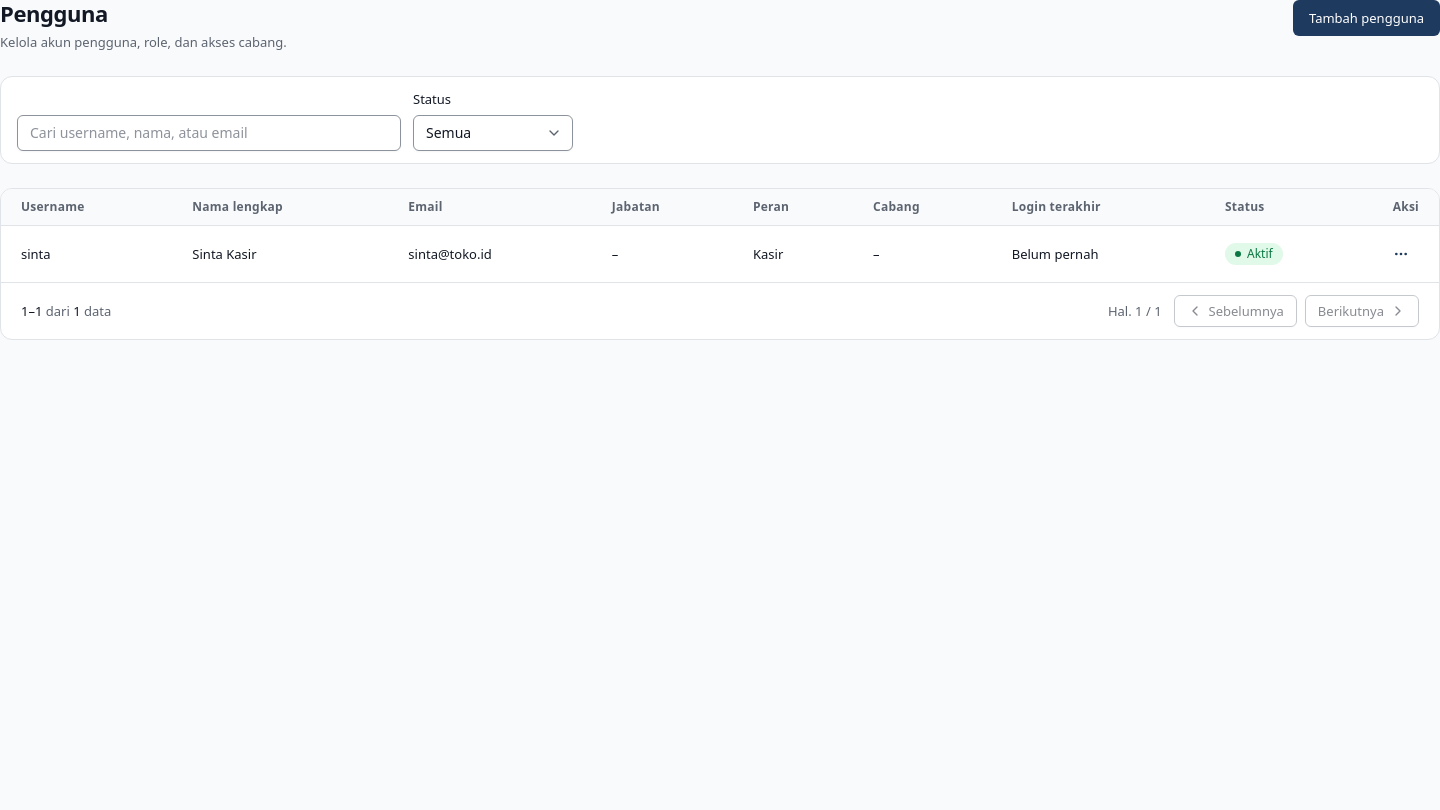
halaman pengguna — ganti kata sandi & status › kata sandi terlalu pendek ditolak di klien
expect the text "sinta" is shown: met, box [21,244,51,262]
Click the button named "Aksi untuk" at (1401,254), box [1383,236,1419,272]
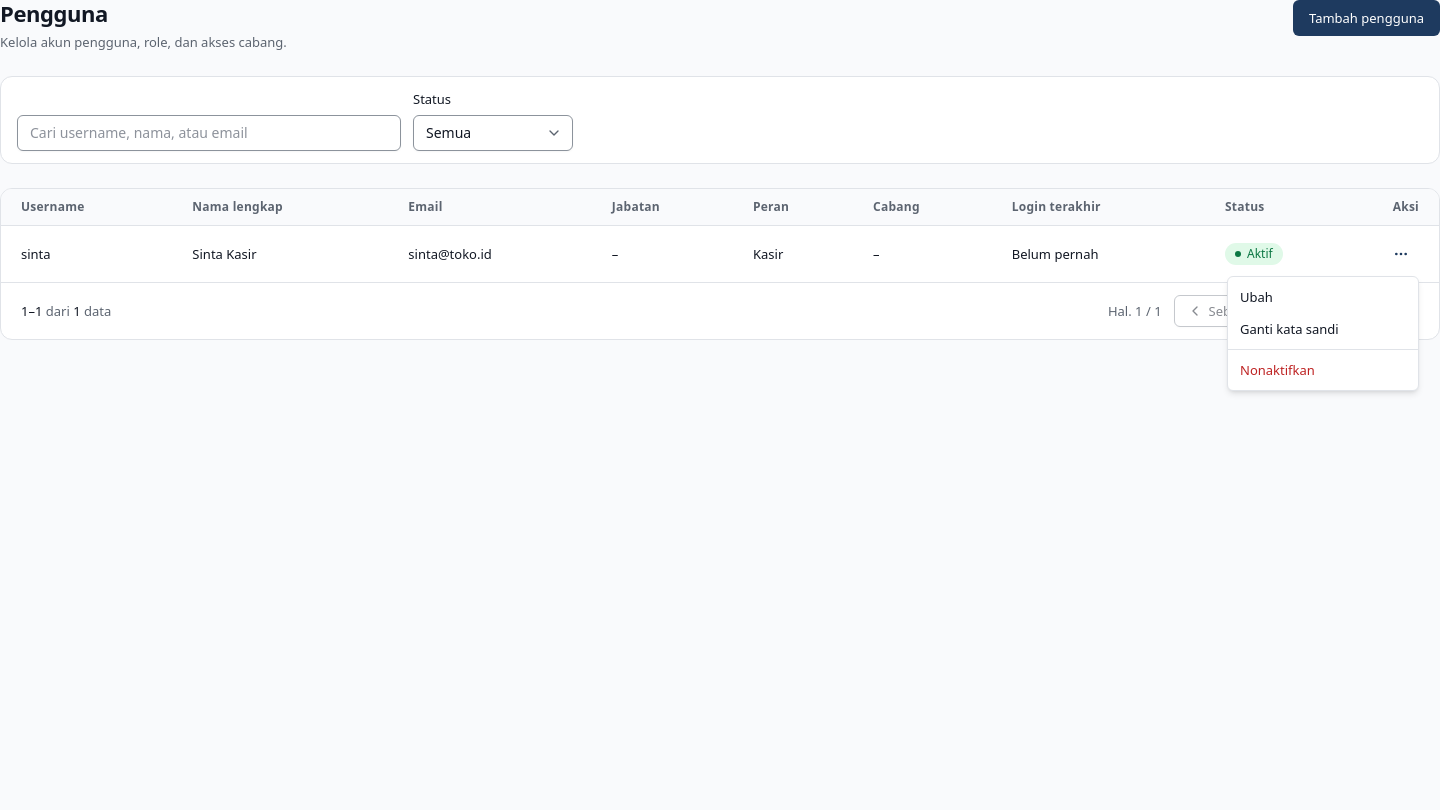
Click the menu item "Ganti kata sandi" at (1289,329), box [1240,320,1339,338]
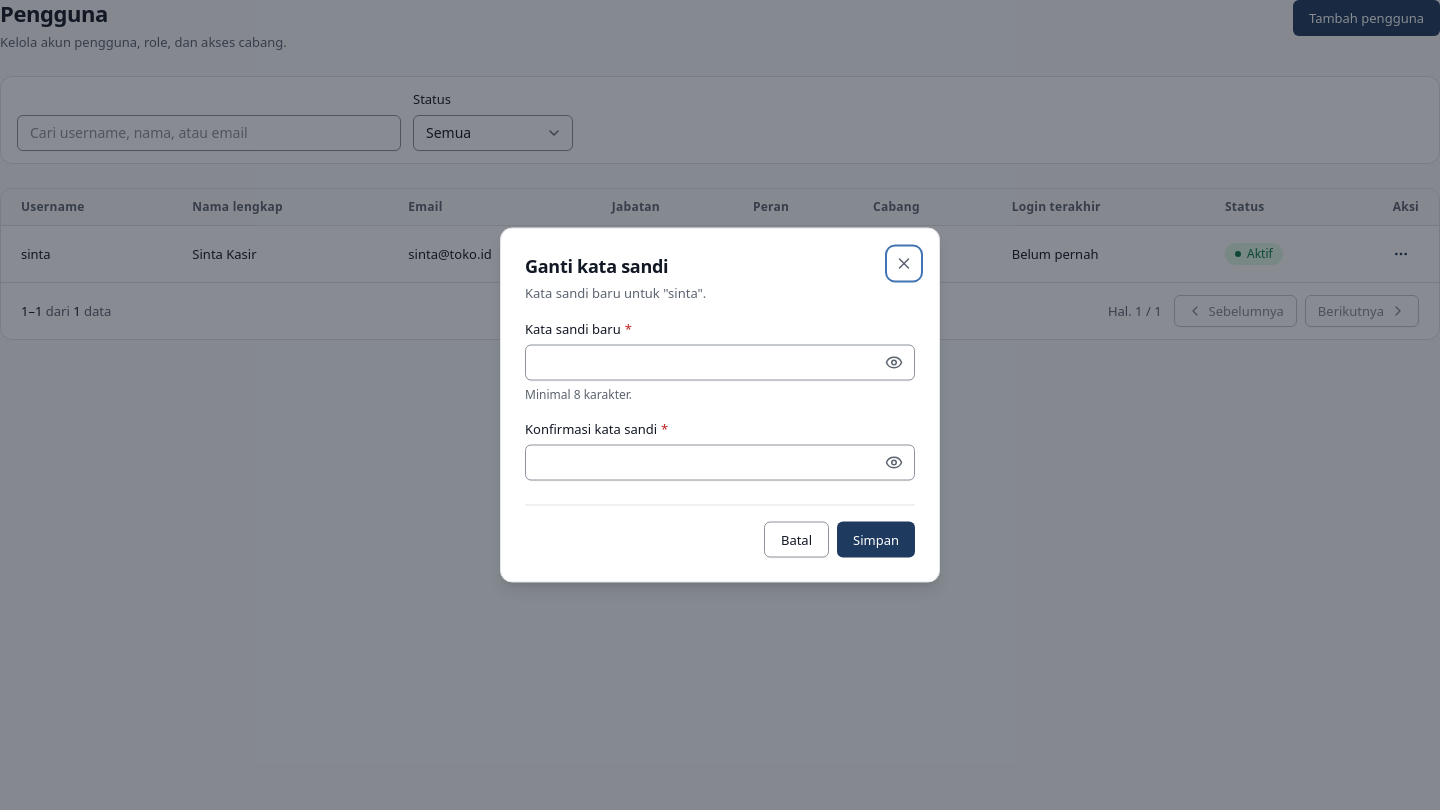
Type "pendek" into the password field labelled "Kata sandi baru *" at (720,362), box [525,344,915,380]
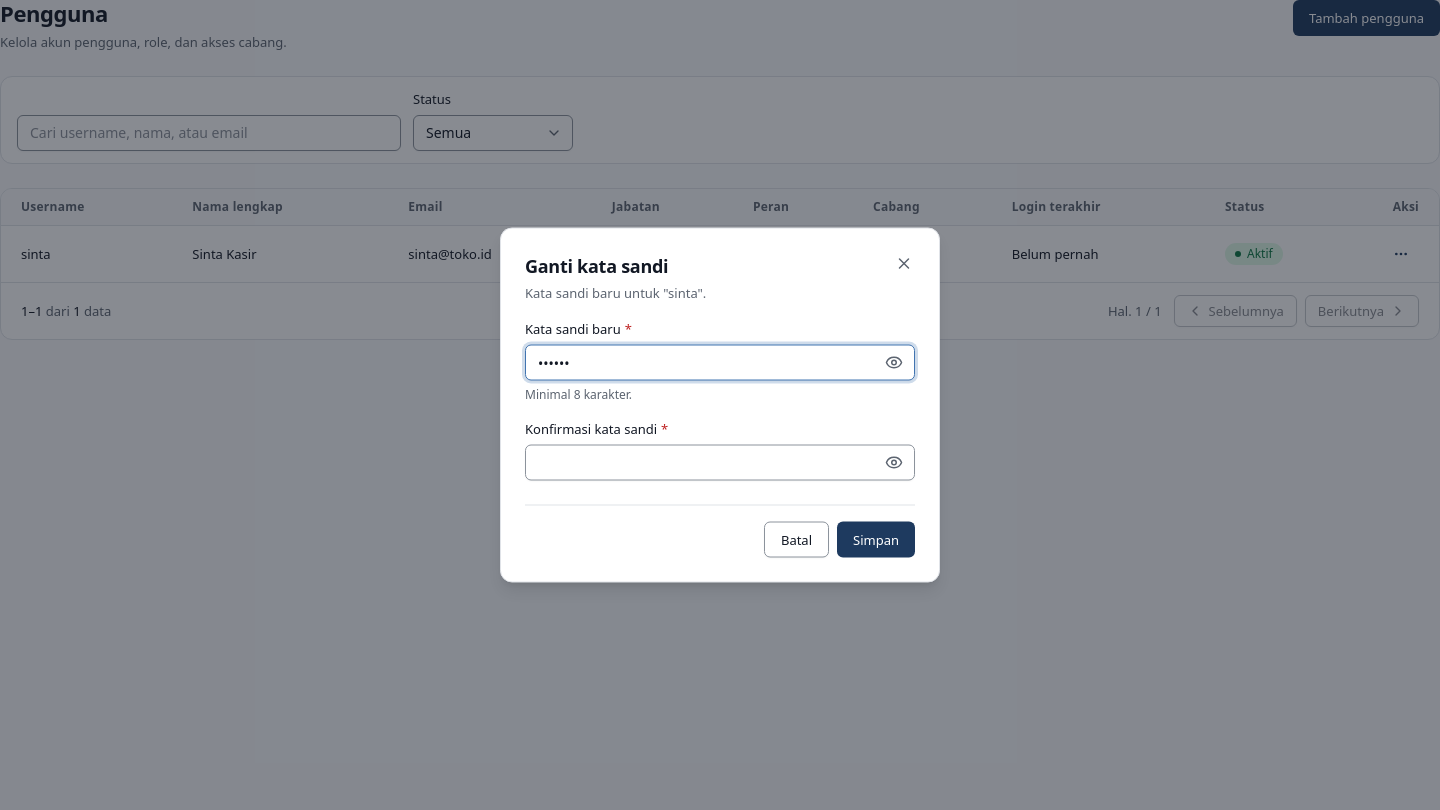
Type "pendek" into the password field labelled "Konfirmasi kata sandi *" at (720,462), box [525,444,915,480]
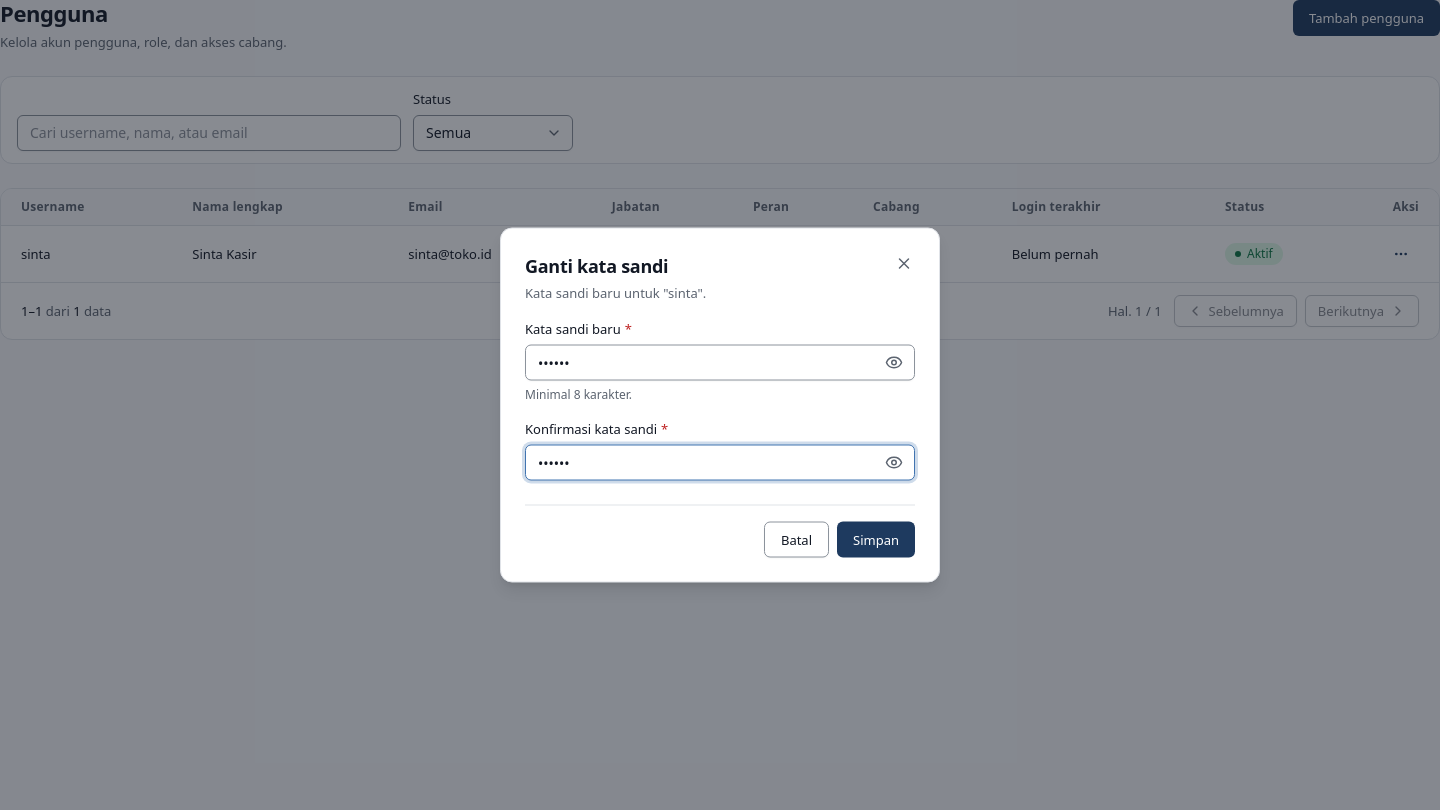
Click the button "Simpan" at (876,540), box [837,522,915,558]
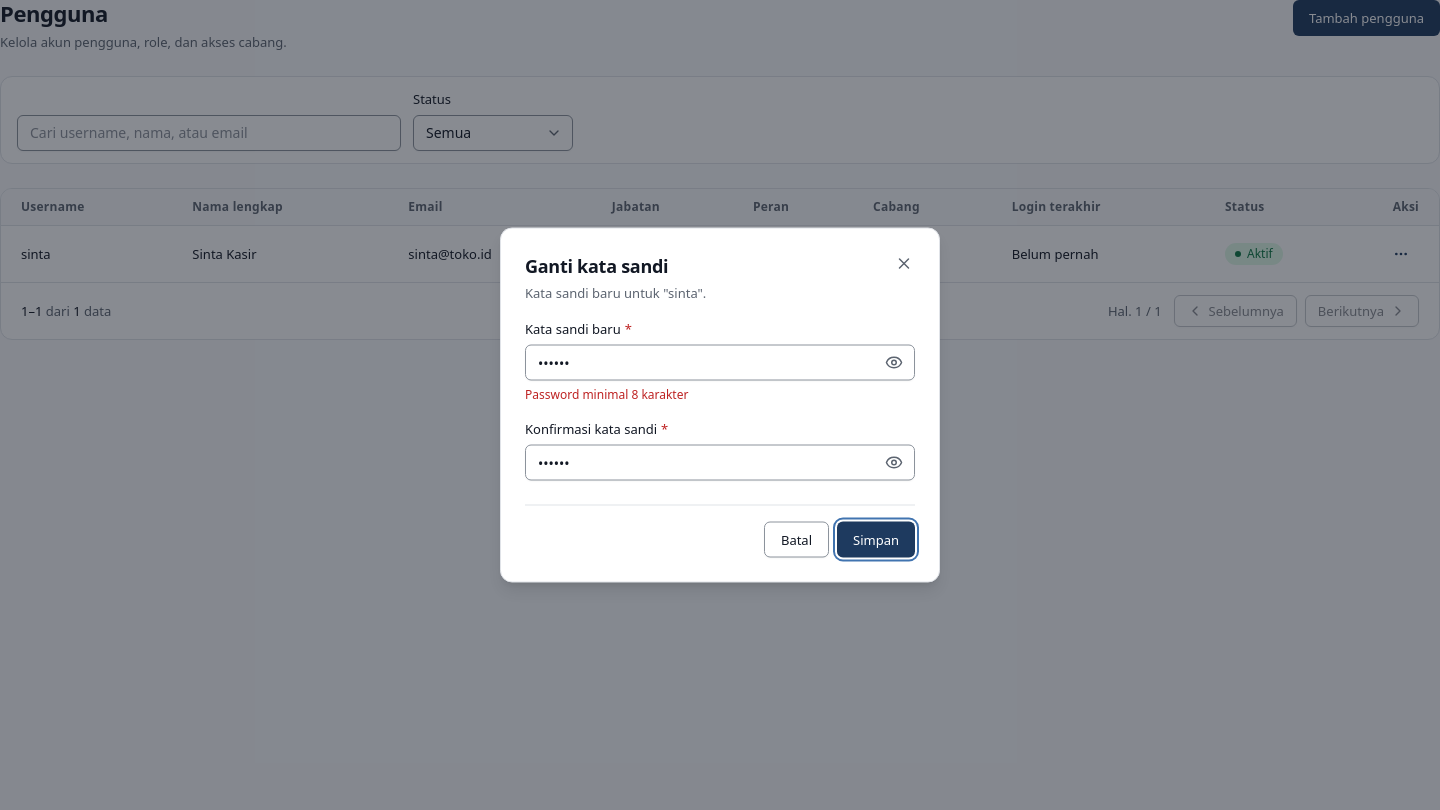
expect the text "Password minimal 8 karakter" is shown: met, box [525,386,688,402]
